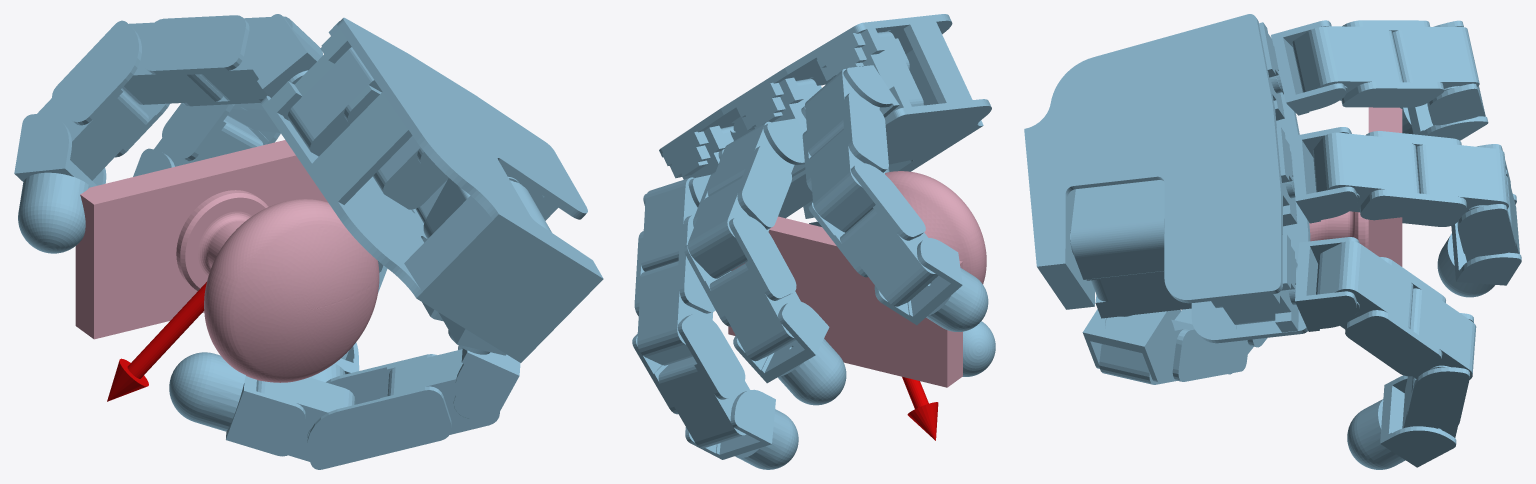
The picture shows the model from 3 angles, left to right: view 1: azimuth 30°, elevation 25°; view 2: azimuth 150°, elevation 25°; view 3: azimuth 270°, elevation 25°; orthographic projection. The views are drawn at different scales.
Parts seen in each view (by area): view 1: world, door_knob.stl; view 2: world, door_knob.stl; view 3: world, door_knob.stl.
Part boxes in pixels (box(x1,y1,x2,y2)): world: box(14, 14, 603, 469); door_knob.stl: box(75, 140, 379, 382); world: box(632, 14, 995, 469); door_knob.stl: box(728, 171, 986, 387); world: box(1024, 14, 1521, 469); door_knob.stl: box(1309, 107, 1402, 266).
Size of the model in its own units: 0.1771 by 0.1779 by 0.1841.
